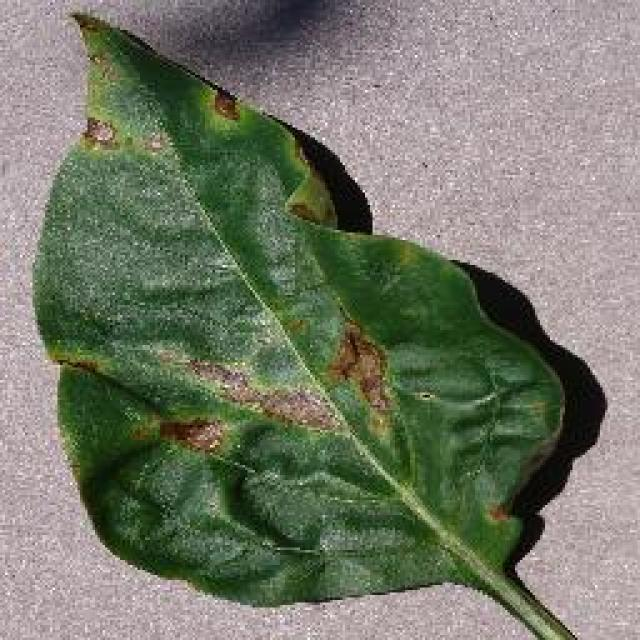Chilli_Bacterial_Spot: (28, 8, 572, 610), (150, 315, 398, 457), (183, 352, 345, 438), (320, 318, 395, 420), (152, 412, 228, 458), (280, 170, 338, 230), (80, 112, 118, 150), (208, 85, 242, 125), (138, 128, 170, 158), (408, 385, 438, 407)
